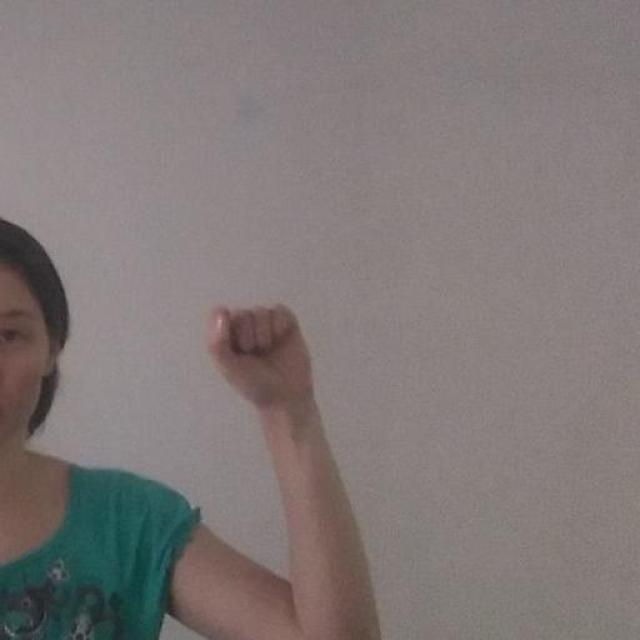hand: (205, 300, 319, 419)
